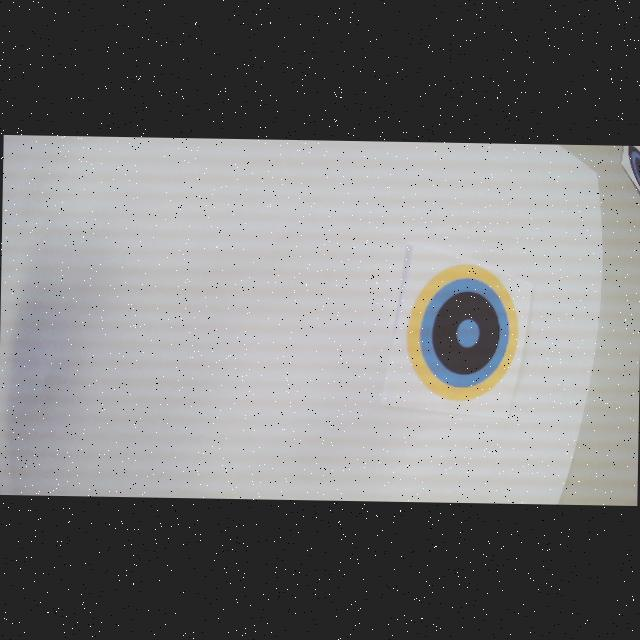COGNITIVE: (406, 261, 518, 402)
